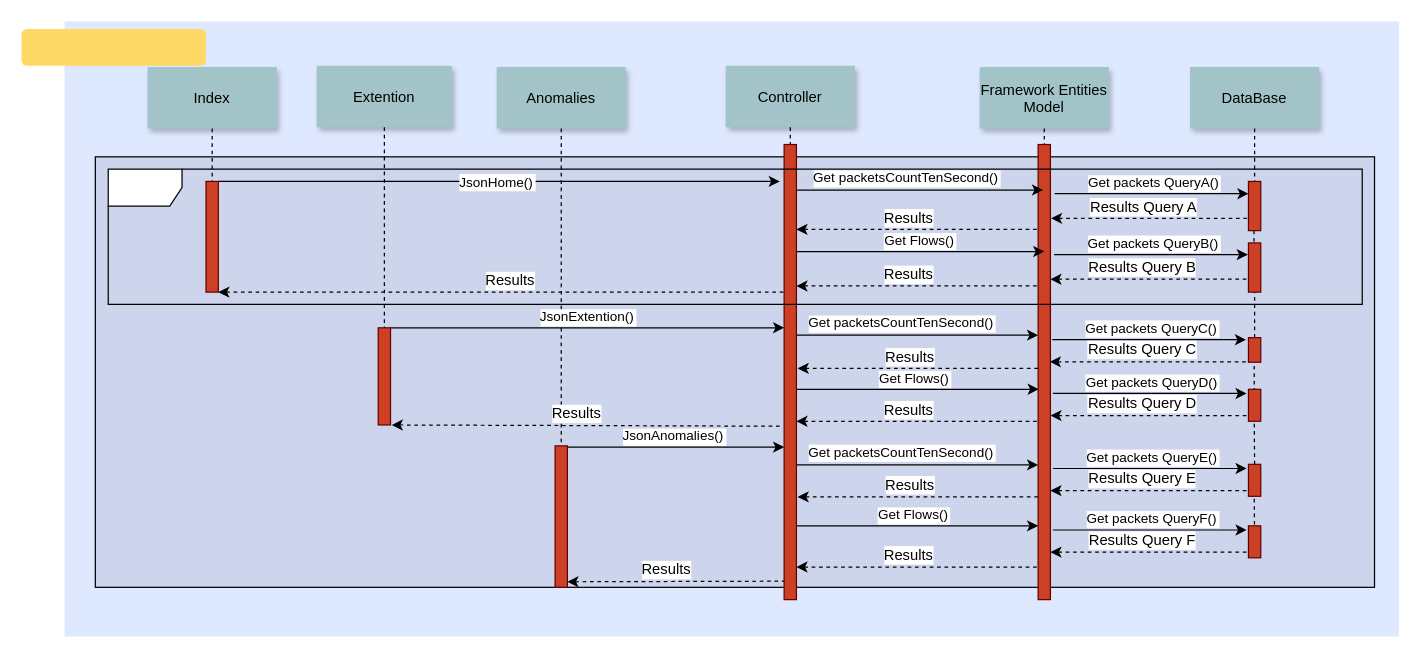
This 1419x657 diagram has some shape labels left out. The shapes that lost their labels are listed below. From the top down, each one's centre as x and y in pixels, then its label:
(113,46): וויזואליזציה
(734,236): Loop
